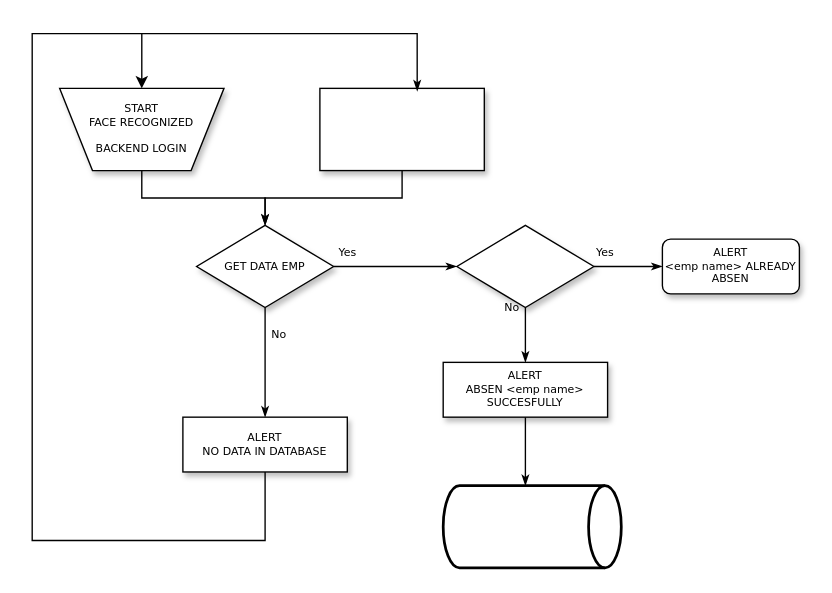
This 832x593 diagram has some shape labels left out. The centre of each missing label's shape, as x and y in pixels:
ABSEN CREATED DB: pixel 531 526
CEK DATA ABSEN: pixel 526 268
Front End FACE RECOGNIZED MACHINE ATTENDANCE: pixel 403 131
